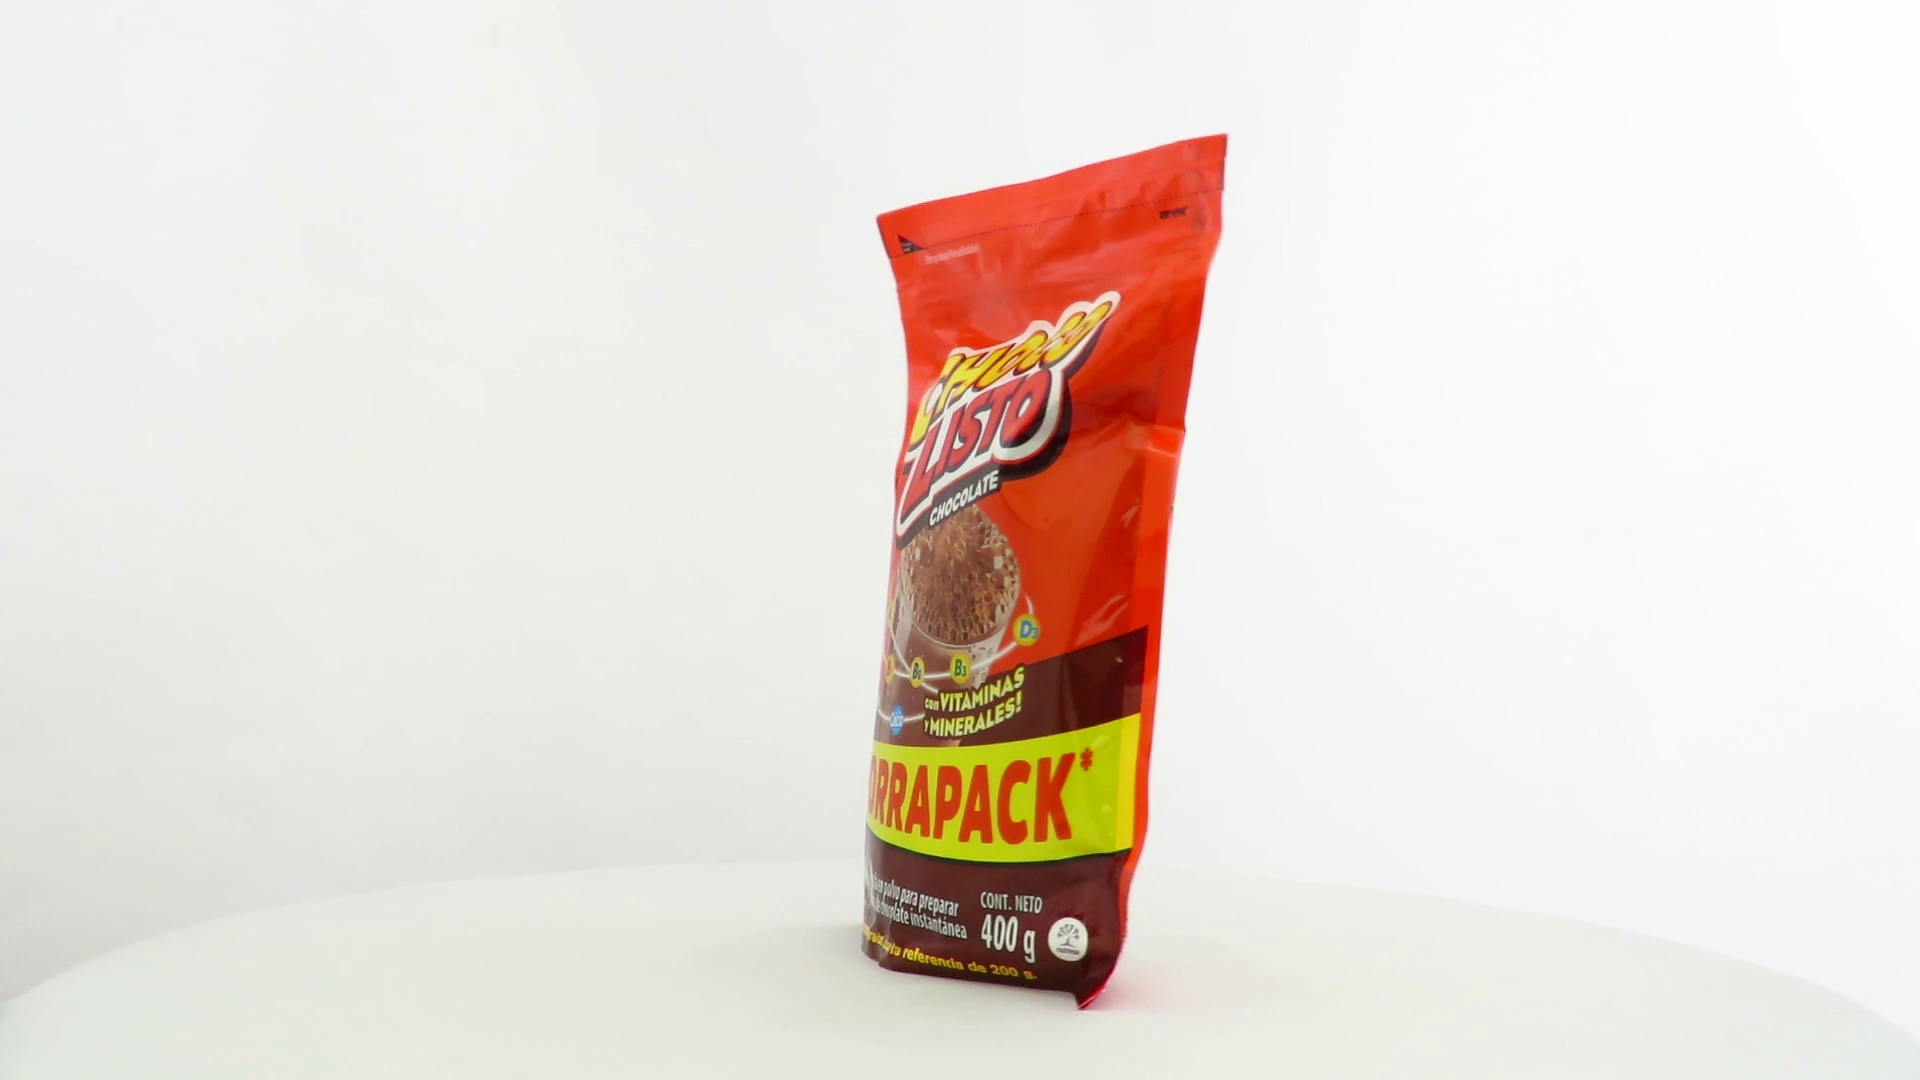COL0170103DYP40000: (856, 128, 1234, 1018)
